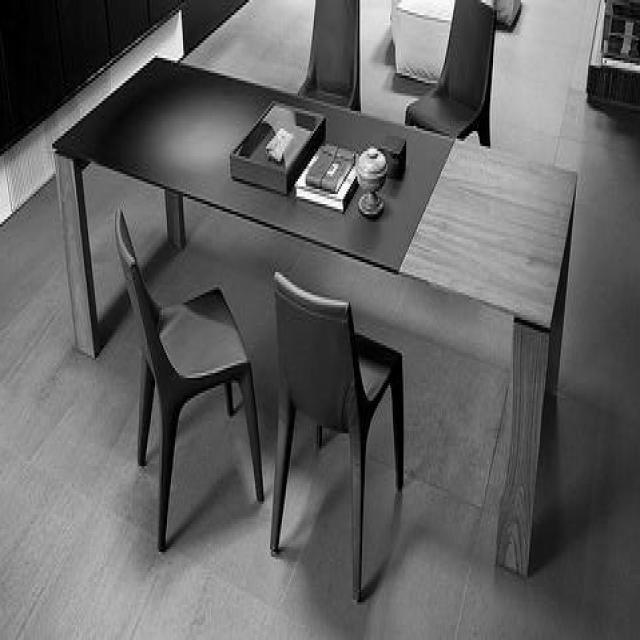chair: (110, 209, 268, 555), (270, 271, 424, 598), (405, 0, 501, 148), (293, 0, 368, 133)
table: (52, 16, 578, 604)
